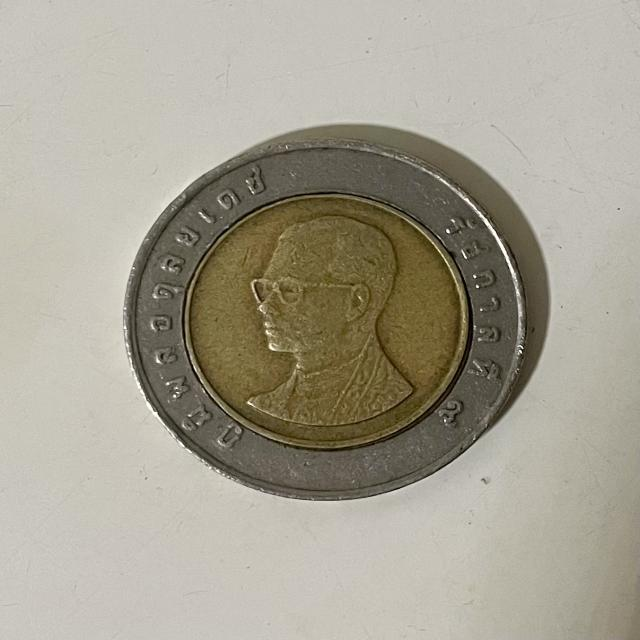10 Bath: (115, 136, 542, 510)
